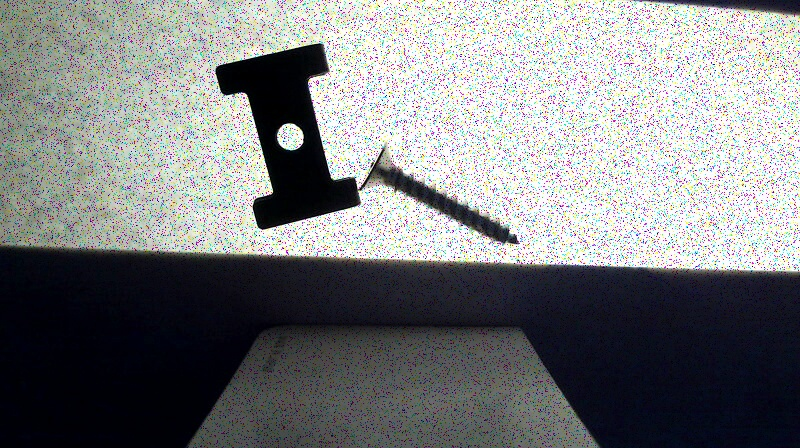O002: (212, 40, 363, 228)
S001: (359, 140, 523, 246)
